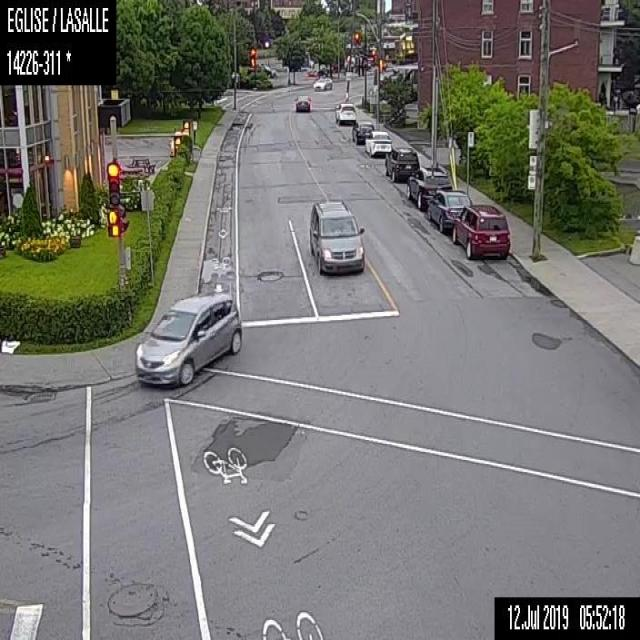vehicle: (133, 290, 242, 386), (306, 194, 366, 274), (450, 201, 511, 258), (404, 161, 451, 212), (422, 186, 472, 232), (384, 143, 419, 184), (364, 129, 392, 159), (350, 118, 374, 146), (333, 101, 355, 125), (312, 72, 334, 92), (294, 92, 310, 111), (262, 62, 275, 78)
